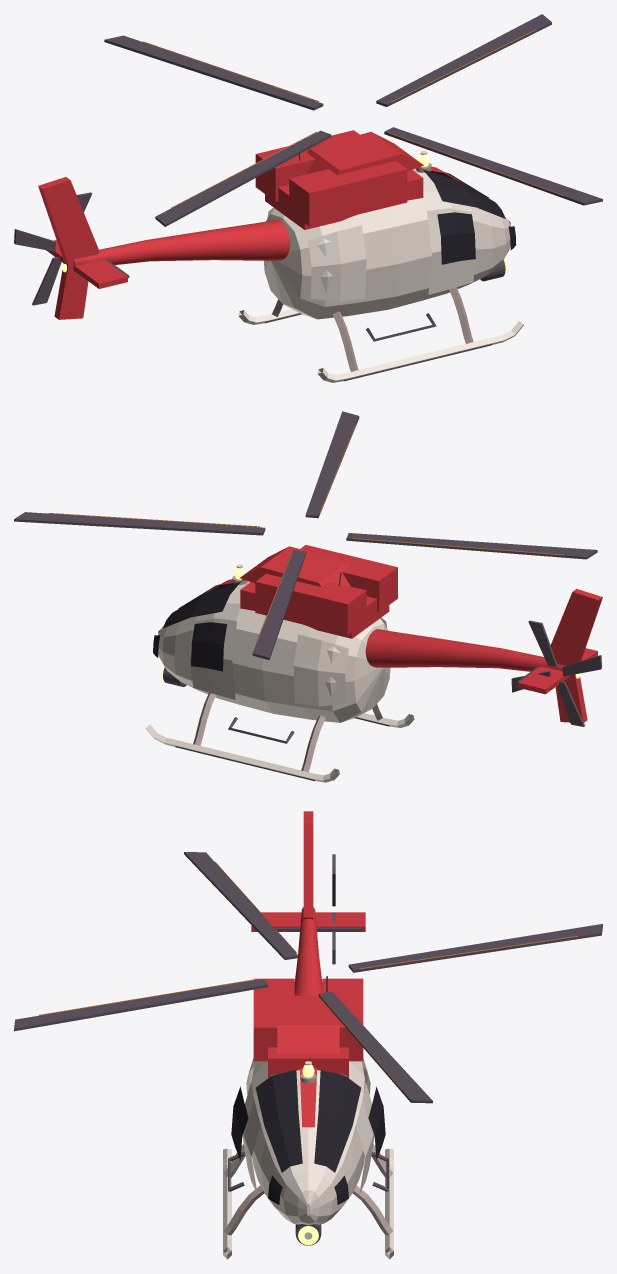
3 renders of one model, top to bottom at view 1: azimuth 30°, elevation 25°; view 2: azimuth 150°, elevation 25°; view 3: azimuth 270°, elevation 25°, orthographic. The views are drawn at different scales.
Visible parts, largest first — view 1: body_pal_survivorRed, body_pal_picketWhite, mainRotor_pal_asphalt, doorR_pal_picketWhite, doorR_pal_uiDark, body_pal_uiDark, tailRotor_pal_asphalt, body_pal_sidewalk, mainRotor_pal_woodWarm, body_pal_asphalt; view 2: body_pal_survivorRed, body_pal_picketWhite, mainRotor_pal_asphalt, tailRotor_pal_asphalt, doorL_pal_picketWhite, doorL_pal_uiDark, body_pal_uiDark, body_pal_sidewalk, mainRotor_pal_woodWarm, body_pal_asphalt; view 3: body_pal_survivorRed, mainRotor_pal_asphalt, body_pal_picketWhite, body_pal_uiDark, body_pal_sidewalk, mainRotor_pal_woodWarm, doorL_pal_picketWhite, doorR_pal_picketWhite, body_pal_asphalt, doorL_pal_uiDark, doorR_pal_uiDark.
Part boxes in pixels (left/top/right/bottom): body_pal_survivorRed: left=38, top=130, right=510, bottom=319; body_pal_picketWhite: left=238, top=168, right=523, bottom=382; mainRotor_pal_asphalt: left=104, top=14, right=602, bottom=226; doorR_pal_picketWhite: left=426, top=208, right=476, bottom=294; doorR_pal_uiDark: left=437, top=212, right=475, bottom=264; body_pal_uiDark: left=423, top=169, right=516, bottom=249; tailRotor_pal_asphalt: left=14, top=192, right=92, bottom=305; body_pal_sidewalk: left=272, top=287, right=473, bottom=371; mainRotor_pal_woodWarm: left=143, top=29, right=564, bottom=208; body_pal_asphalt: left=105, top=154, right=492, bottom=381; body_pal_survivorRed: left=158, top=545, right=602, bottom=722; body_pal_picketWhite: left=145, top=581, right=414, bottom=782; mainRotor_pal_asphalt: left=14, top=411, right=597, bottom=660; tailRotor_pal_asphalt: left=511, top=620, right=601, bottom=726; doorL_pal_picketWhite: left=190, top=618, right=236, bottom=699; doorL_pal_uiDark: left=191, top=622, right=226, bottom=671; body_pal_uiDark: left=153, top=581, right=240, bottom=657; body_pal_sidewalk: left=193, top=692, right=382, bottom=772; mainRotor_pal_woodWarm: left=48, top=425, right=563, bottom=643; body_pal_asphalt: left=175, top=572, right=539, bottom=780; body_pal_survivorRed: left=251, top=811, right=365, bottom=1127; mainRotor_pal_asphalt: left=14, top=852, right=602, bottom=1103; body_pal_picketWhite: left=223, top=1058, right=393, bottom=1259; body_pal_uiDark: left=255, top=1070, right=361, bottom=1204; body_pal_sidewalk: left=224, top=1144, right=392, bottom=1235; mainRotor_pal_woodWarm: left=39, top=862, right=577, bottom=1089; doorL_pal_picketWhite: left=356, top=1083, right=374, bottom=1194; doorR_pal_picketWhite: left=242, top=1083, right=260, bottom=1194; body_pal_asphalt: left=228, top=927, right=388, bottom=1191; doorL_pal_uiDark: left=368, top=1086, right=385, bottom=1160; doorR_pal_uiDark: left=231, top=1086, right=248, bottom=1160.
Size of the model in its own units: 10.92 by 4.19 by 9.45.
